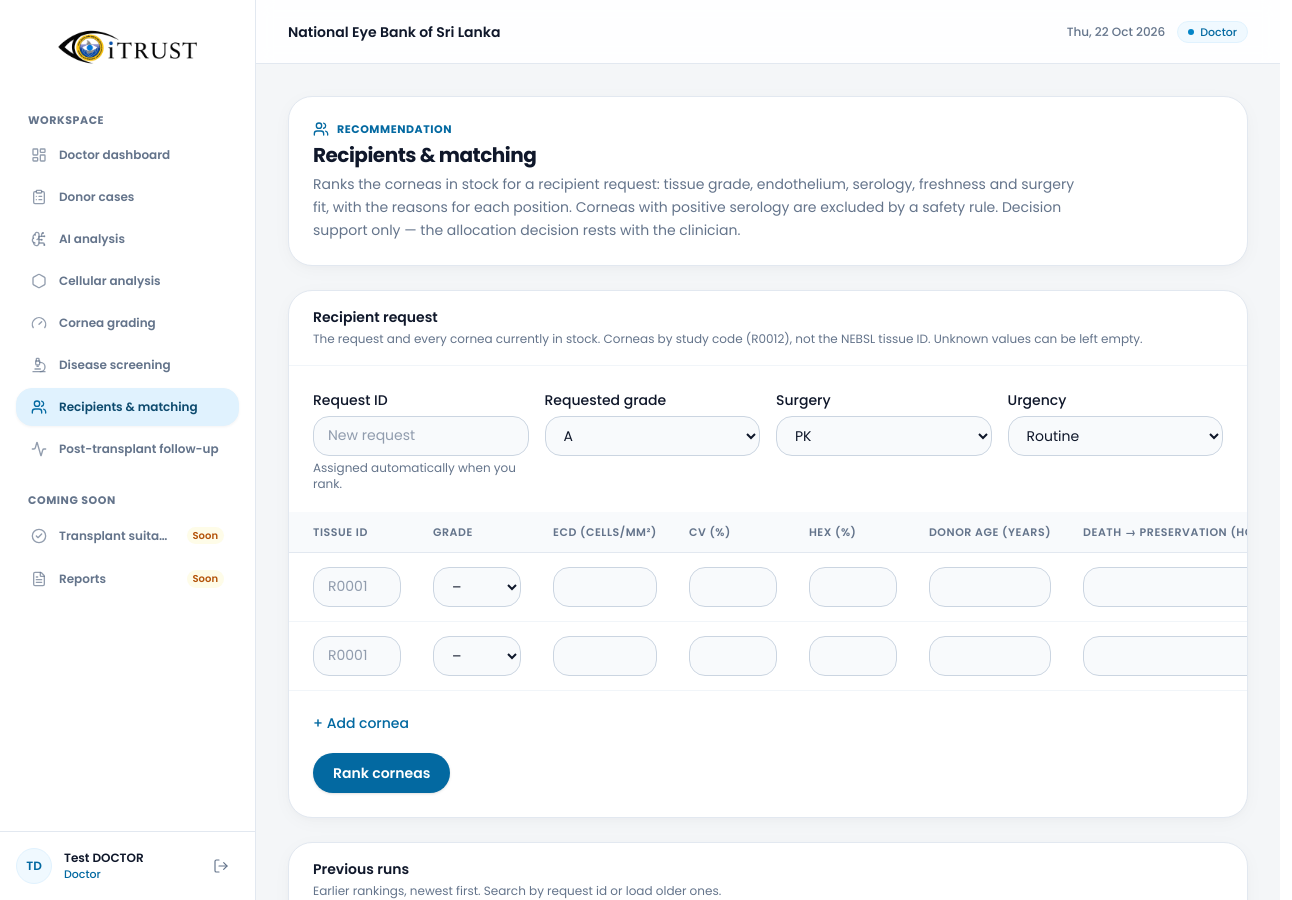
it: MatchingPage › accepts only study codes, never a real NEBSL tissue ID
Check: the field labelled "Request ID" is shown, box [313,416,528,456]
Type "12656R" into the field named "Tissue ID, row 1".
click(357, 587); type("12656R")  # box [313,567,401,607]
Select "A" in the dropdown named "Grade, row 1" at (477, 587), box [433,567,521,607]
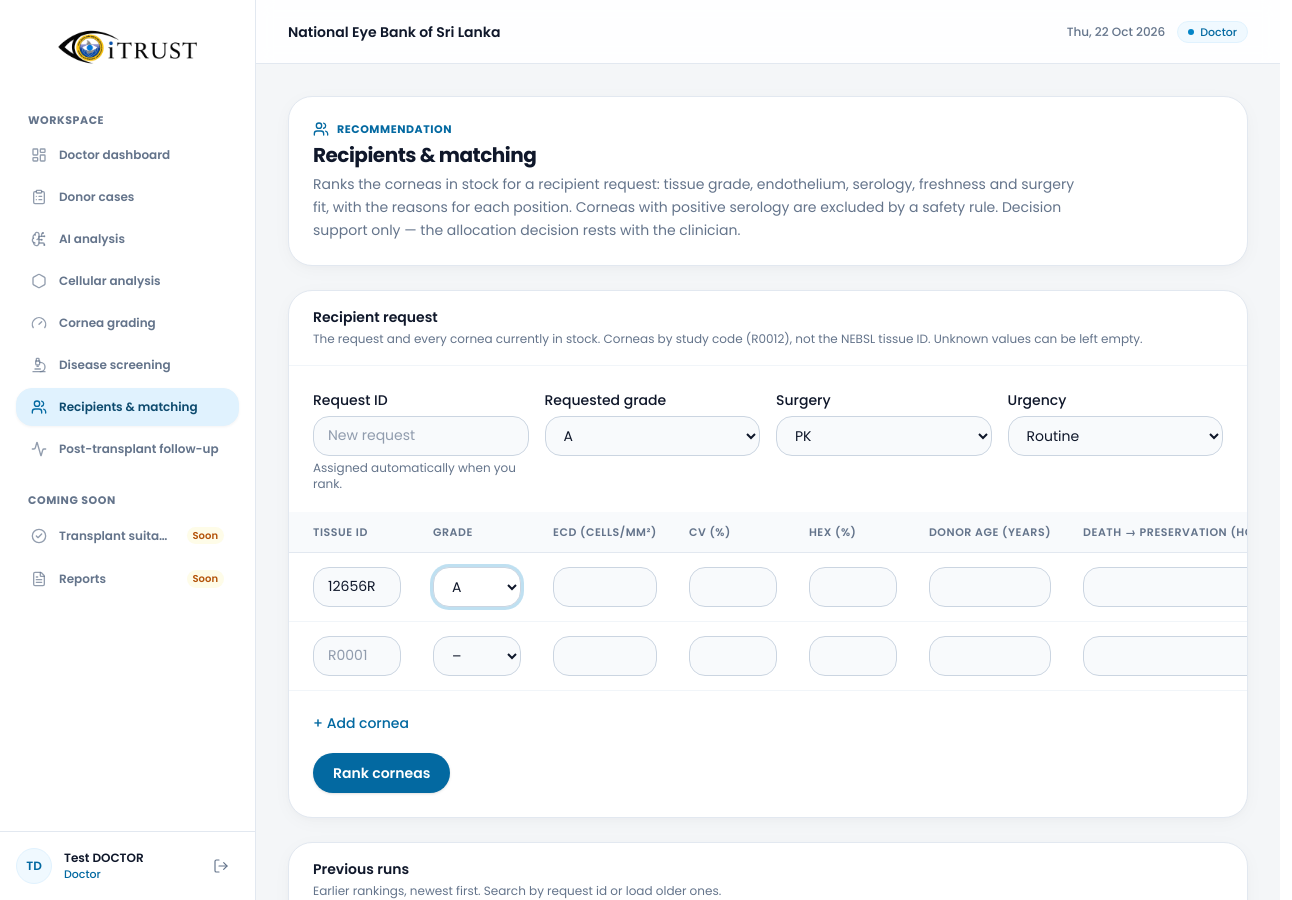
Type "2800" into the field named "ECD, row 1".
click(605, 587); type("2800")  # box [553,567,657,607]
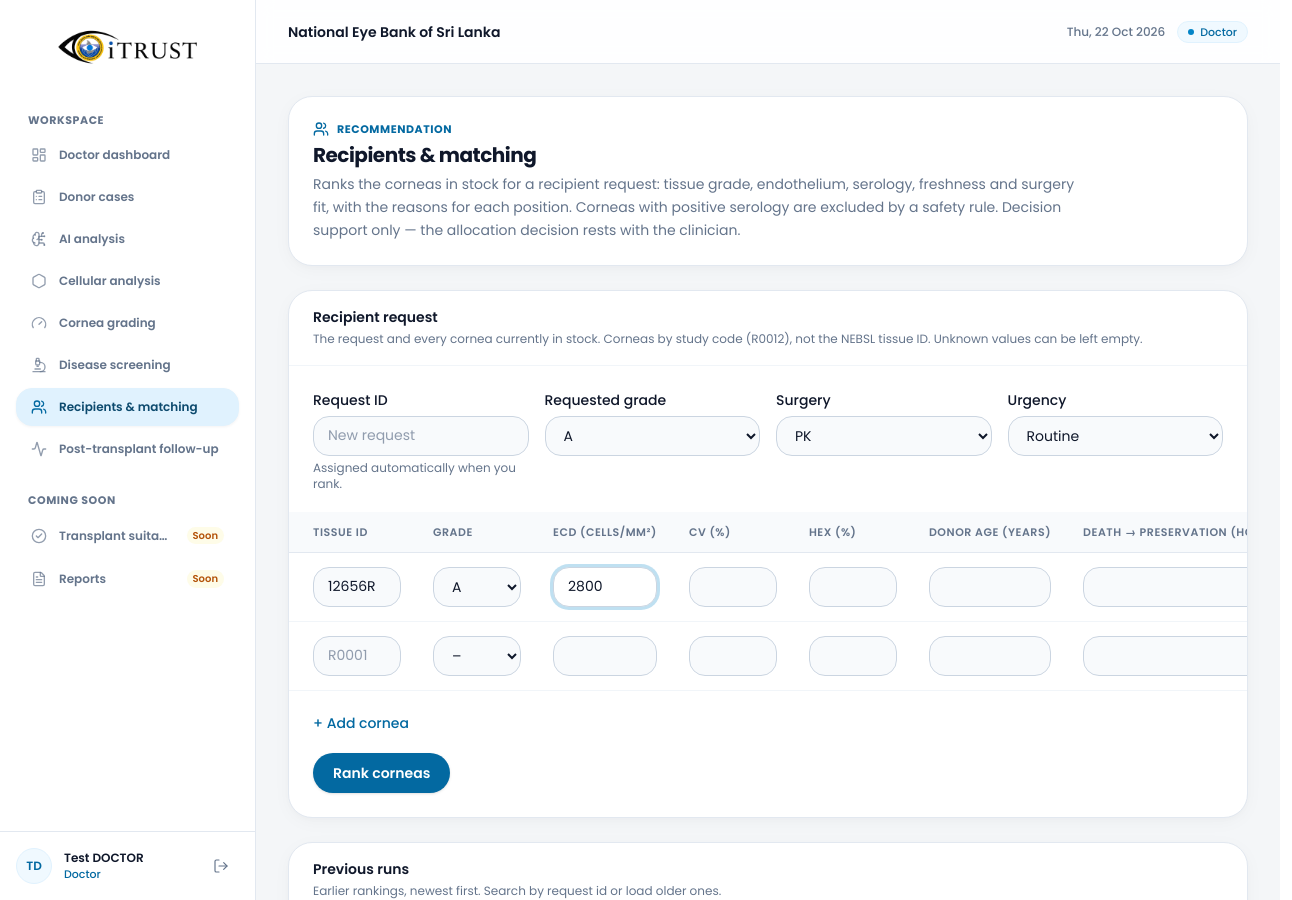
Type "T2" into the field with placeholder "R0001".
click(357, 656); type("T2")  # box [313,636,401,676]
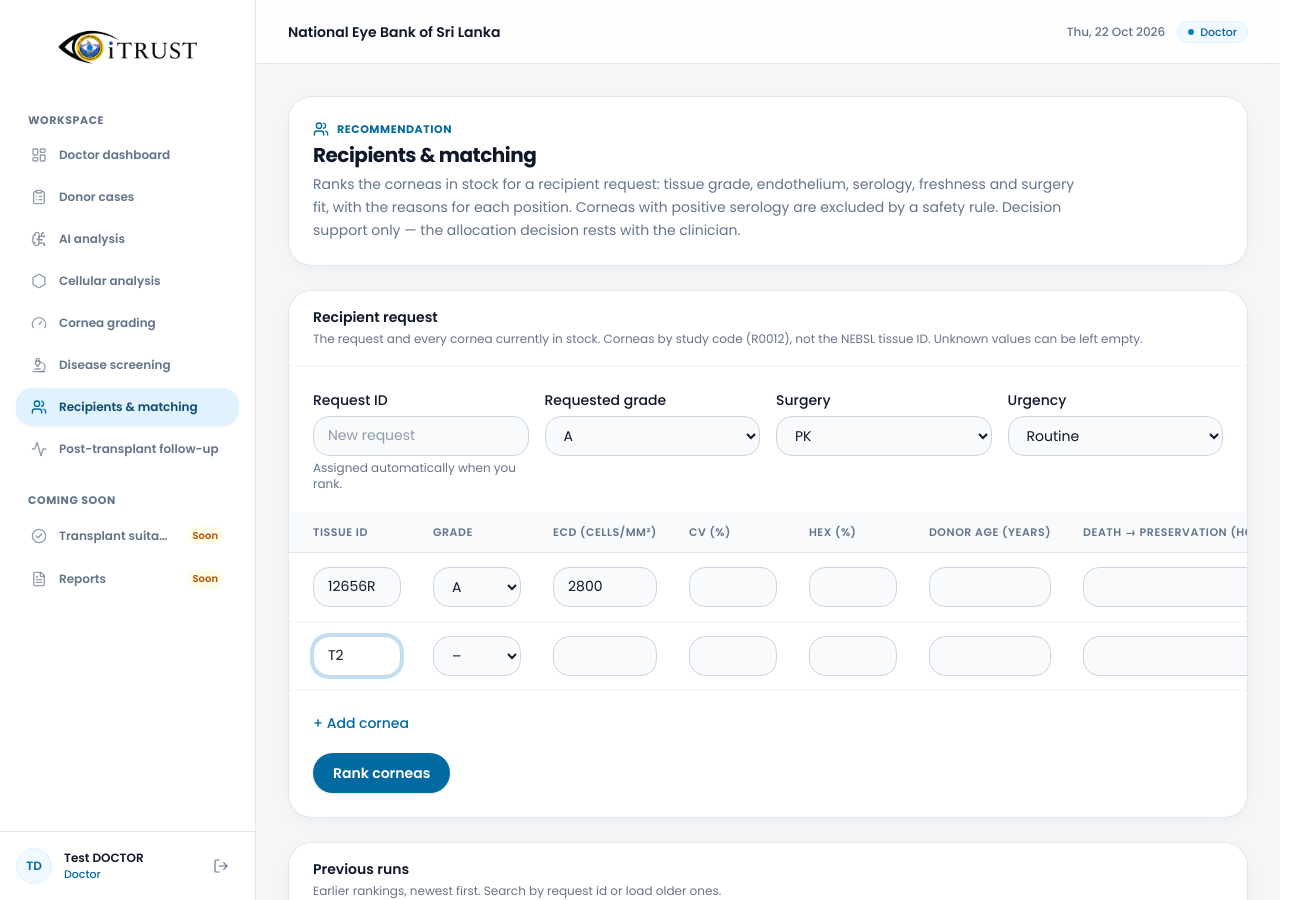
Select "A" in the dropdown named "Grade, row 2" at (477, 656), box [433,636,521,676]
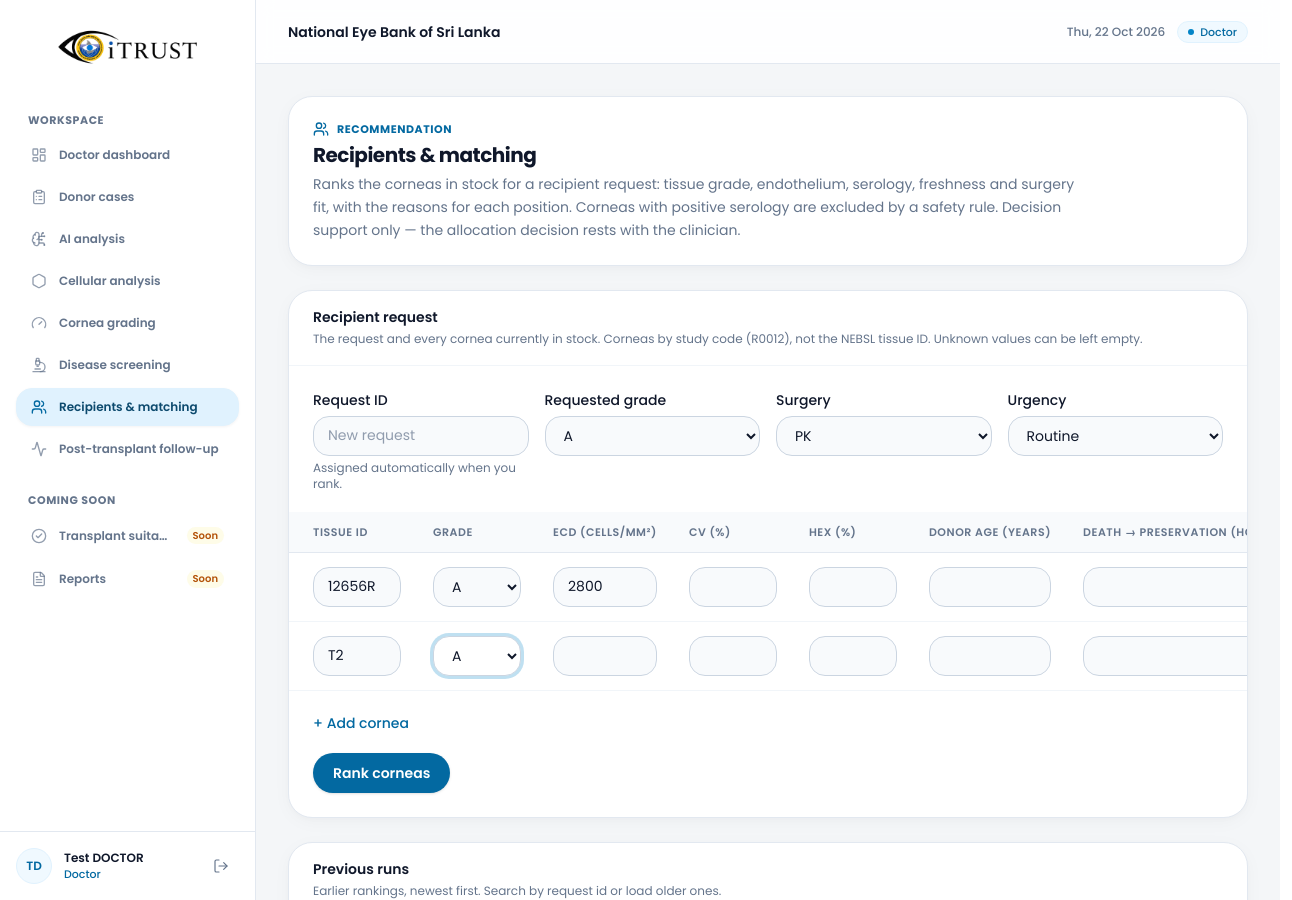
Type "2800" into the field named "ECD, row 2".
click(605, 656); type("2800")  # box [553,636,657,676]
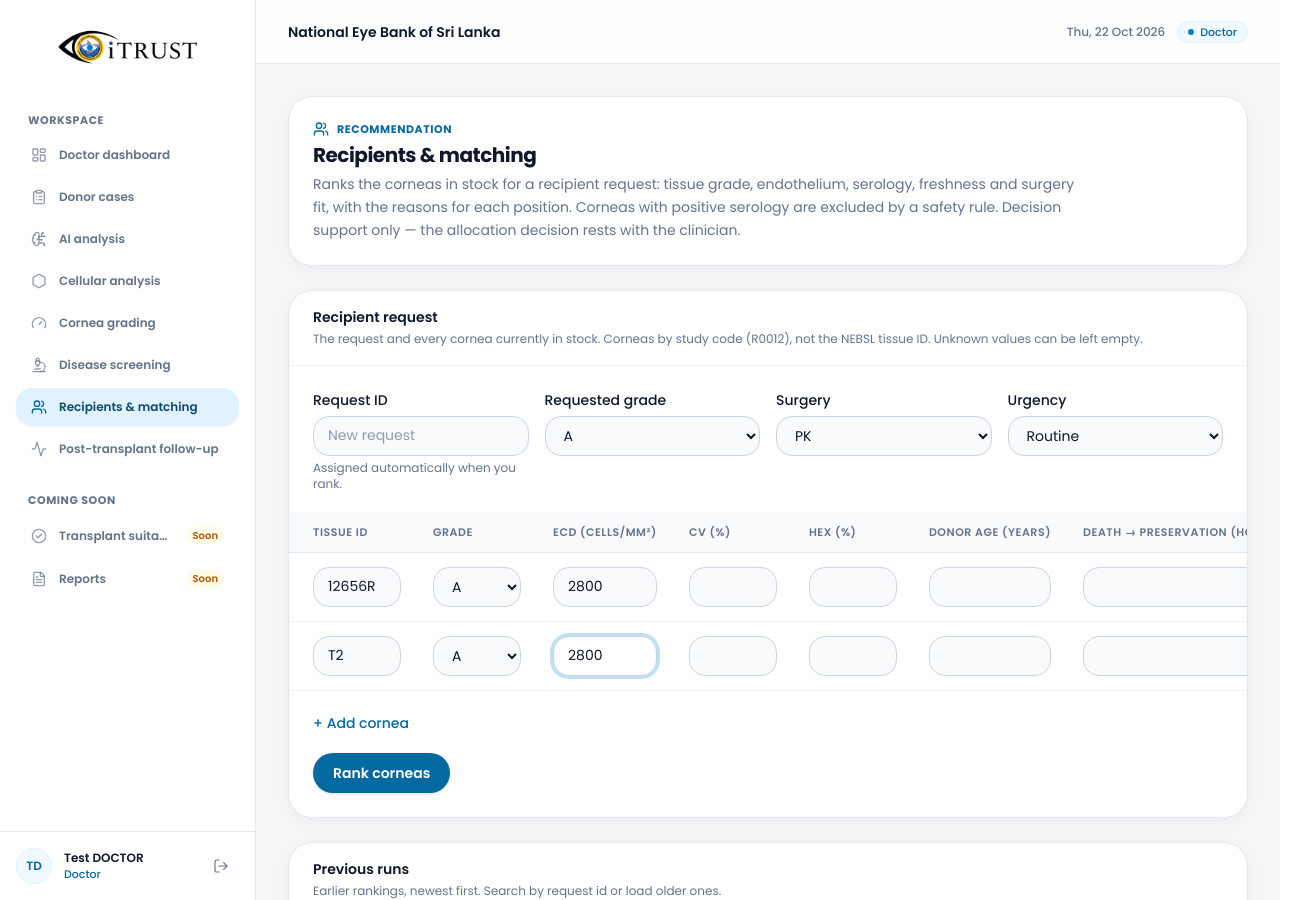
Click the button "Rank corneas".
click(382, 773)  # box [313,753,450,793]
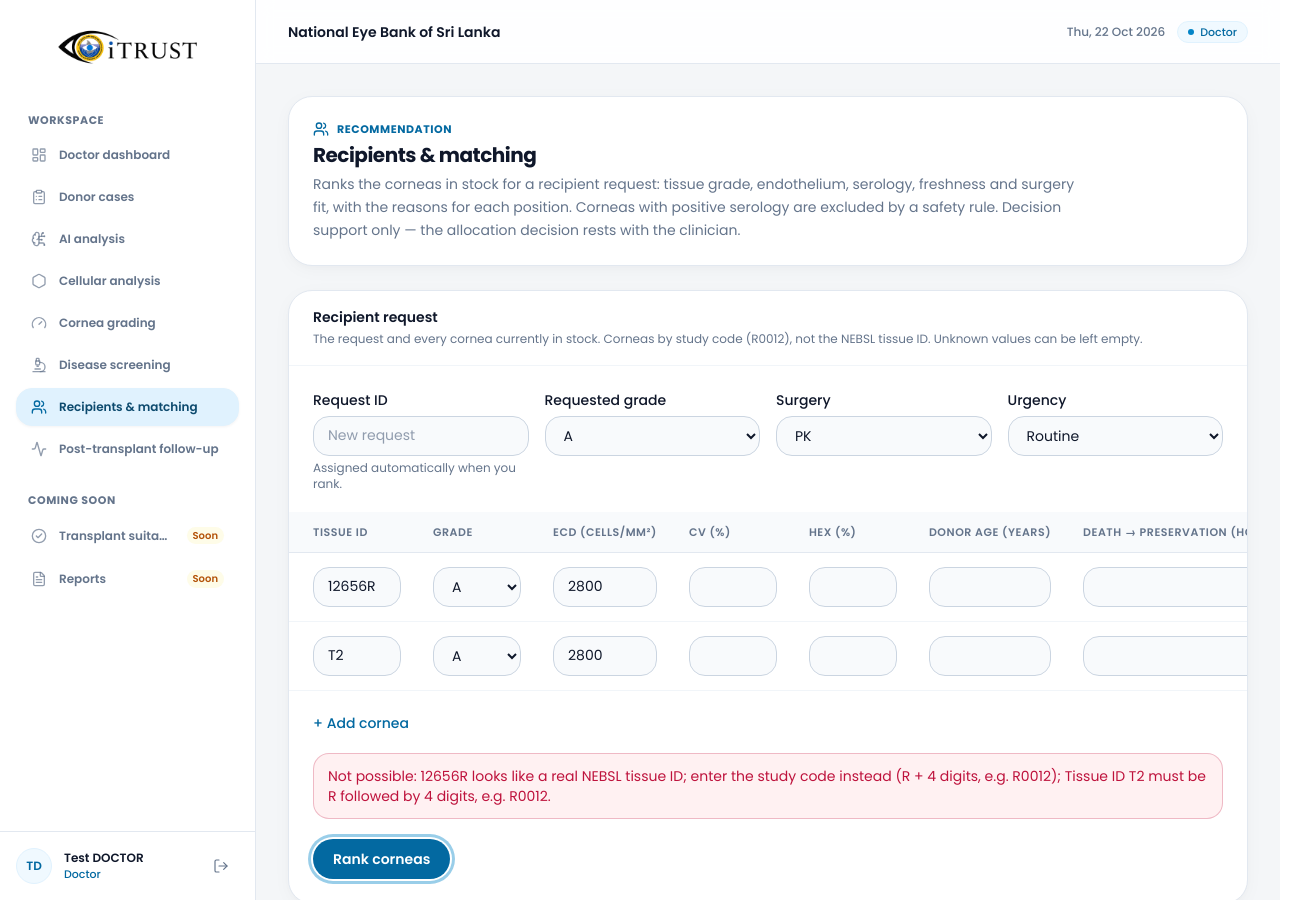
Check: the text "Not possible:" shows "12656R looks like a real NEBSL tissue ID; enter the study code instead (R + 4 digits, e.g. R0012)", box [328,766,1206,806]
Check: the text "Not possible:" shows "Tissue ID T2 must be R followed by 4 digits, e.g. R0012", box [328,766,1206,806]
